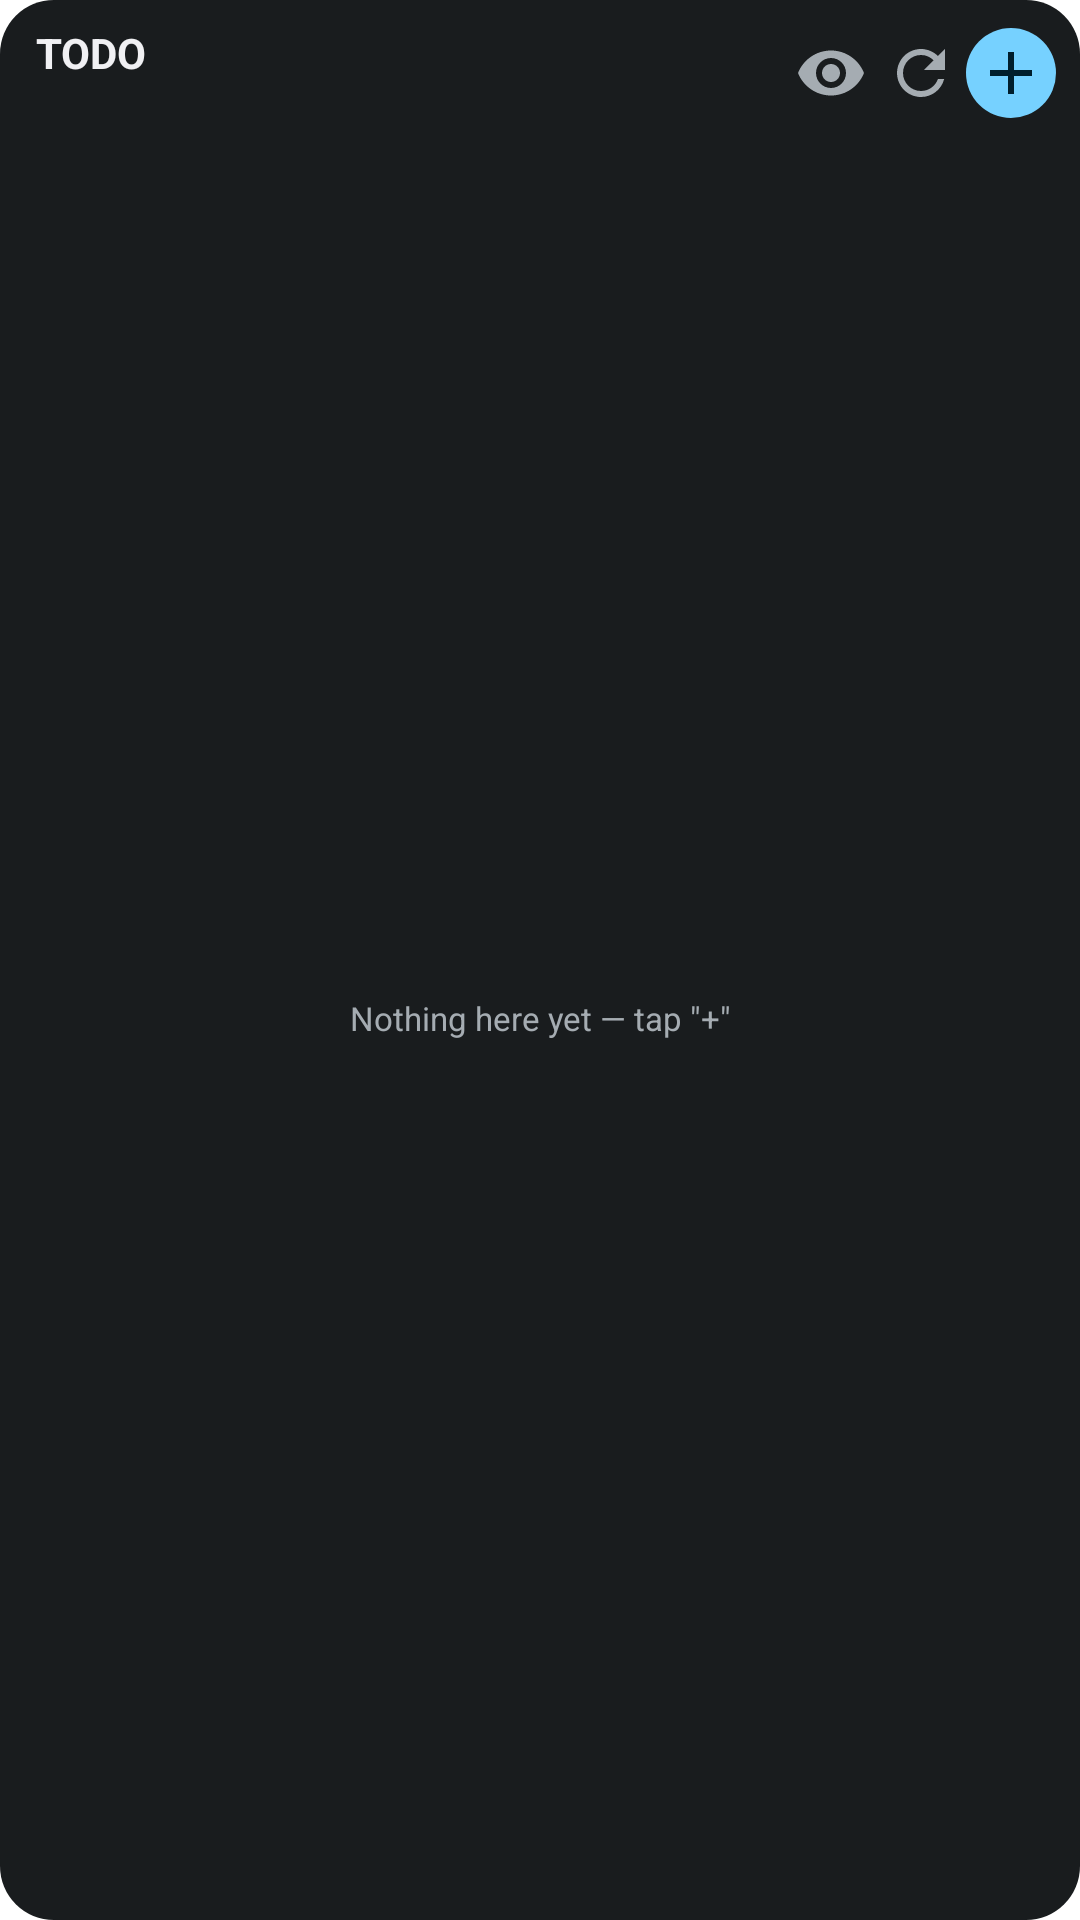

Icons on this 1080px×1920px Android screen, each with the point to tap as (x,y):
Add task: (1011,73)
Refresh: (921,73)
Show/hide completed: (831,73)
